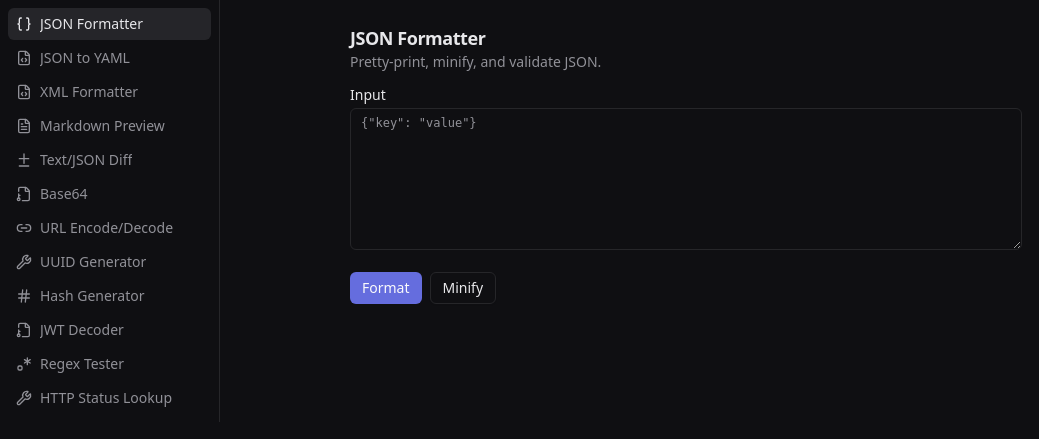
ToolboxPage navigation › switches panels when a different tool is selected
The width and height of the screenshot is (1039, 439).
Step 1. Click the button "Base64" → (110, 194), box top-left (8, 178), bottom-right (211, 210)
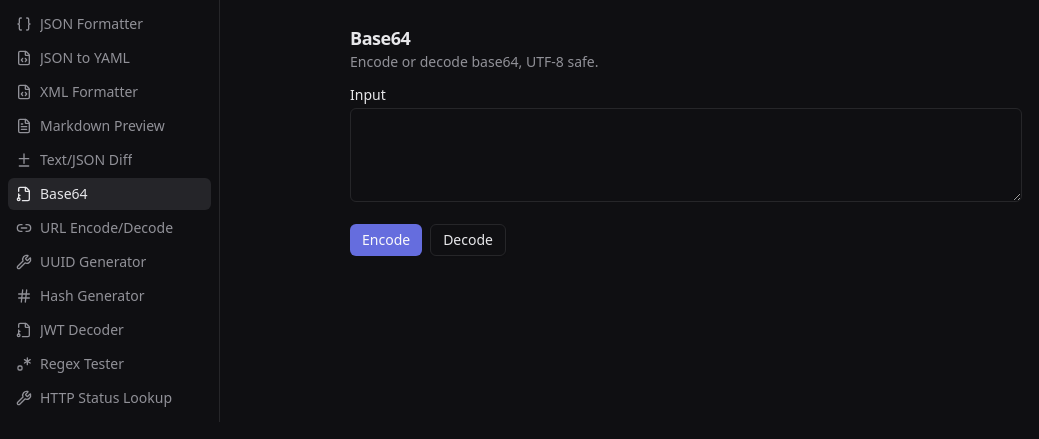
Check: the text "Encode or decode base64, UTF-8 safe." is shown, box top-left (350, 52), bottom-right (598, 71)
